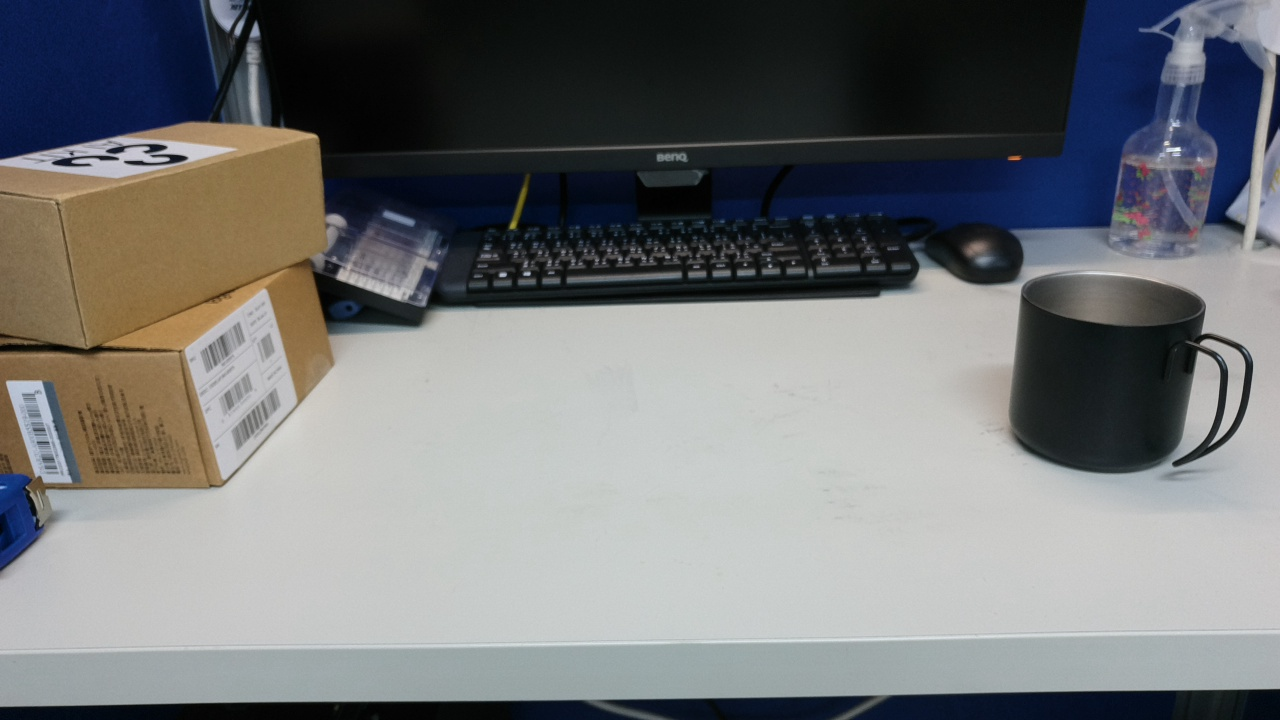circle: (326, 531, 512, 682)
